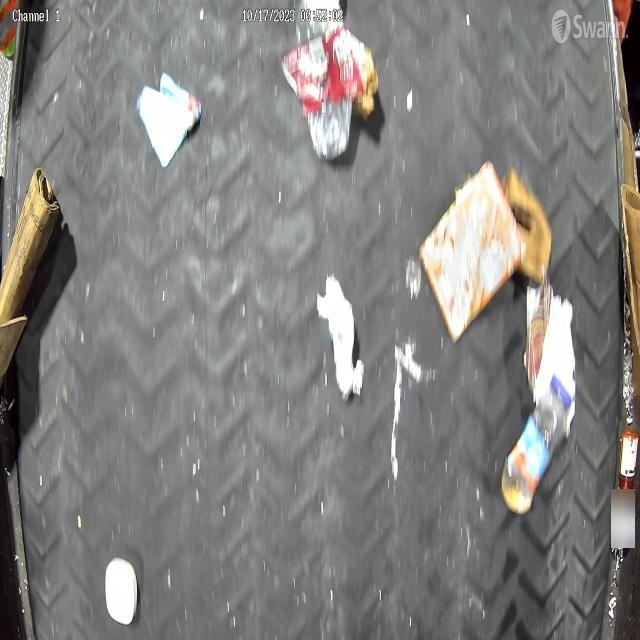plastic_bottle: (501, 374, 572, 514)
